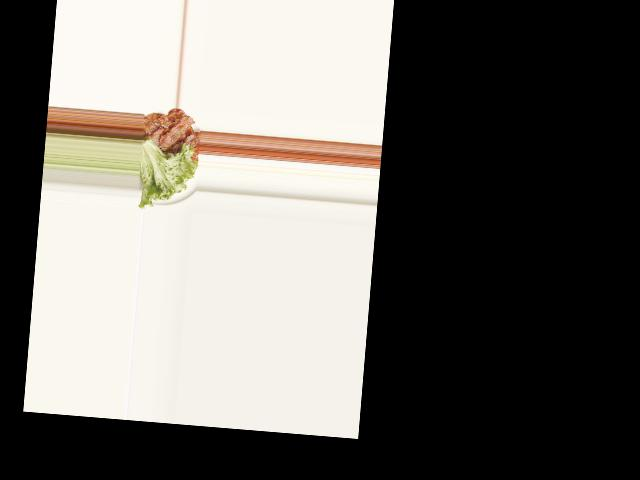lettuce: (136, 139, 198, 209)
